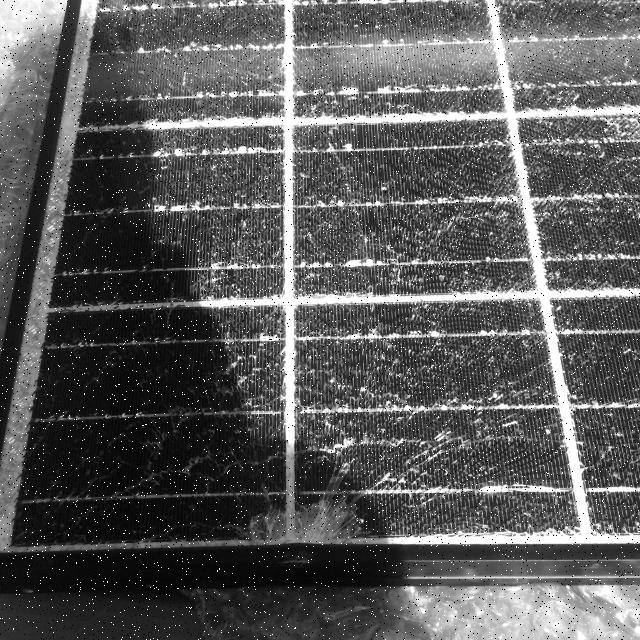physical damage: (5, 3, 640, 545)
